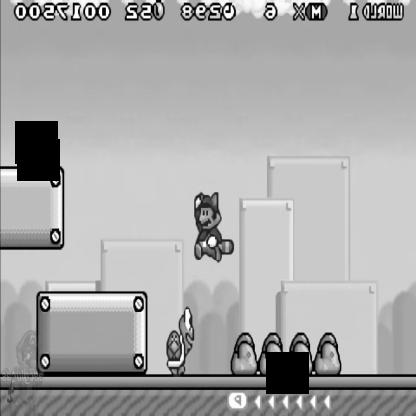Mario: (193, 193, 234, 262)
koopa: (165, 309, 195, 376)
moneda: (150, 0, 166, 21)
